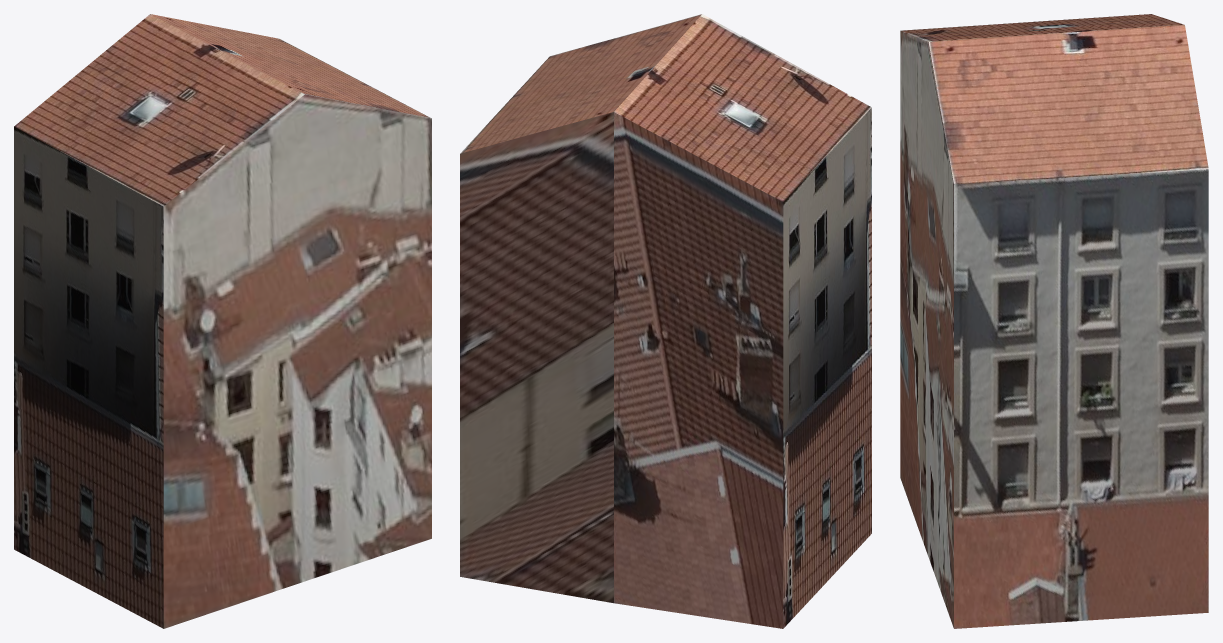
3 renders of one model, left to right at view 1: azimuth 30°, elevation 25°; view 2: azimuth 150°, elevation 25°; view 3: azimuth 270°, elevation 25°, orthographic. The views are drawn at different scales.
Parts seen in each view (by area): view 1: Z_UP; view 2: Z_UP; view 3: Z_UP.
Boxes of the visible parts, box(x1,y1,x2,y2) form: Z_UP: box(14, 14, 431, 628); Z_UP: box(460, 14, 871, 628); Z_UP: box(900, 14, 1208, 628).
Size of the model in its own units: 15.46 by 22.17 by 12.04.
Materials: 2 (1 with a texture image).
